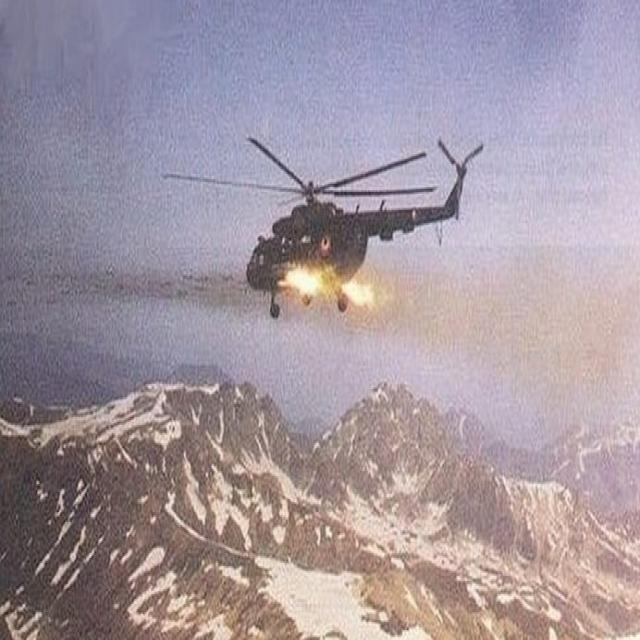helicopter: (160, 121, 495, 323)
